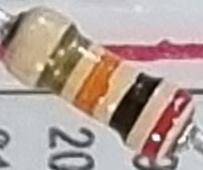Black: (107, 70, 165, 145)
Orange: (71, 51, 126, 117)
Red: (135, 84, 194, 159)
Side-Gold: (31, 20, 95, 94)
